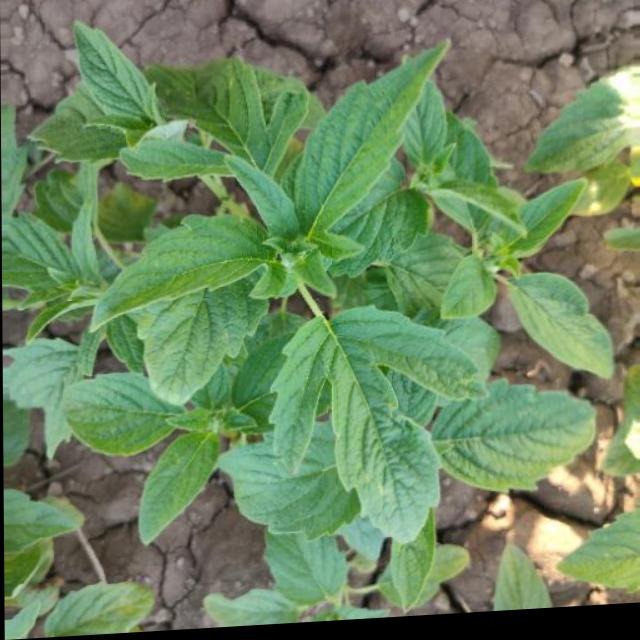weed: (19, 46, 603, 625)
